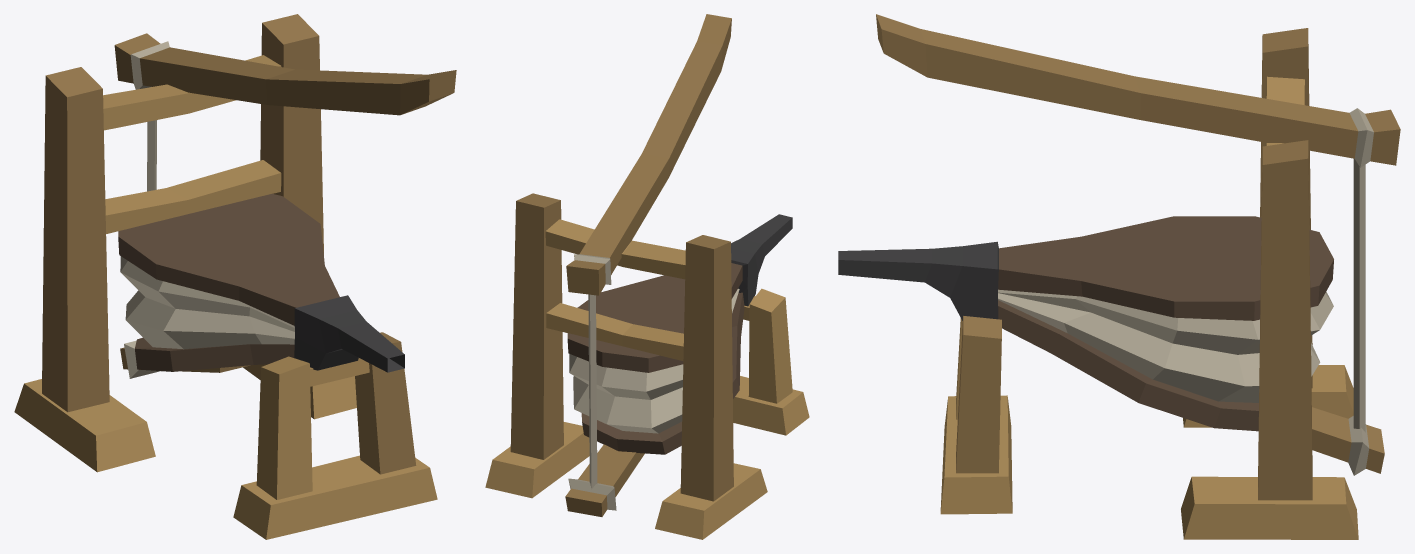
File: Forge_Bellow.gltf
The picture shows the model from 3 angles, left to right: view 1: azimuth 30°, elevation 25°; view 2: azimuth 150°, elevation 25°; view 3: azimuth 270°, elevation 25°; orthographic projection. The views are drawn at different scales.
Parts seen in each view (by area): view 1: Forge_Bellow2; view 2: Forge_Bellow2; view 3: Forge_Bellow2.
Part boxes in pixels (x1,y1,x2,y2): Forge_Bellow2: [14, 14, 456, 539]; Forge_Bellow2: [485, 14, 809, 539]; Forge_Bellow2: [838, 14, 1400, 539].
Size of the model in its own units: 0.2549 by 0.3996 by 0.4234.
1 material, 1 textured.
